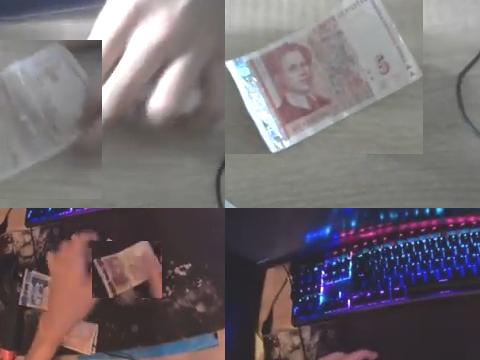50leva: (92, 241, 162, 298)
5leva: (225, 0, 423, 154), (0, 40, 102, 186)
